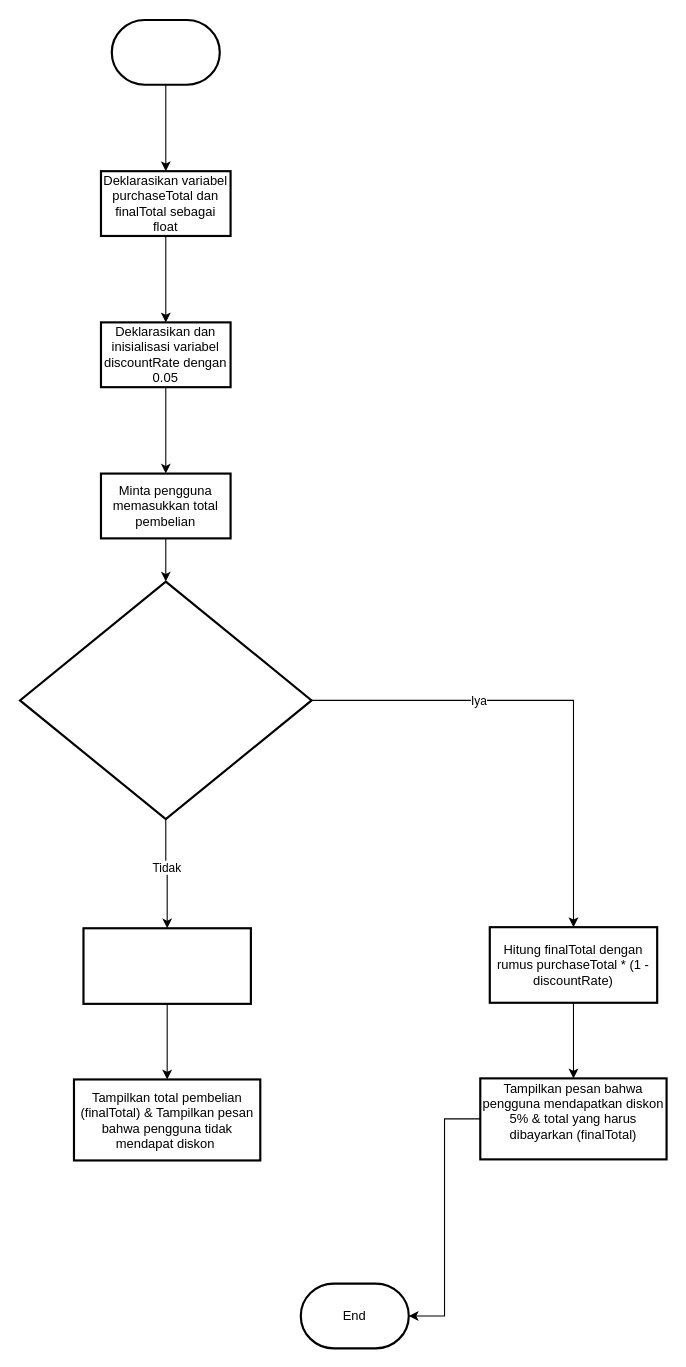
The diagram is 686 pixels wide and 1367 high, and some of its shapes have lost their labels. Here are the shapes that lost their labels. From the top down, the centre of each, then its label:
At [165,51]: "Start".
At [165,700]: "If purchaseTotal lebih besar dari atau sama dengan 100000.0".
At [166,965]: "finalTotal sama dengan purchaseTotal".
